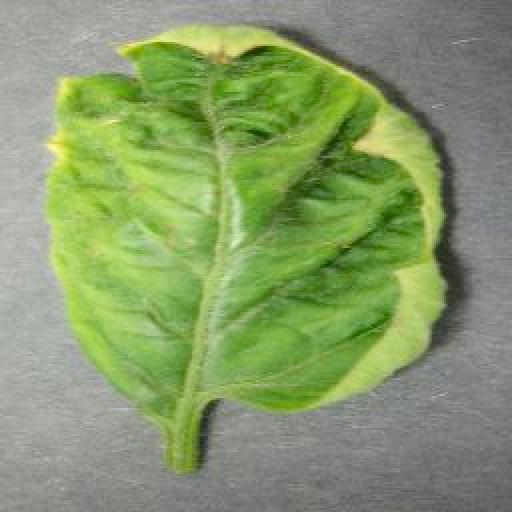disease_tomato: (38, 23, 454, 417)
